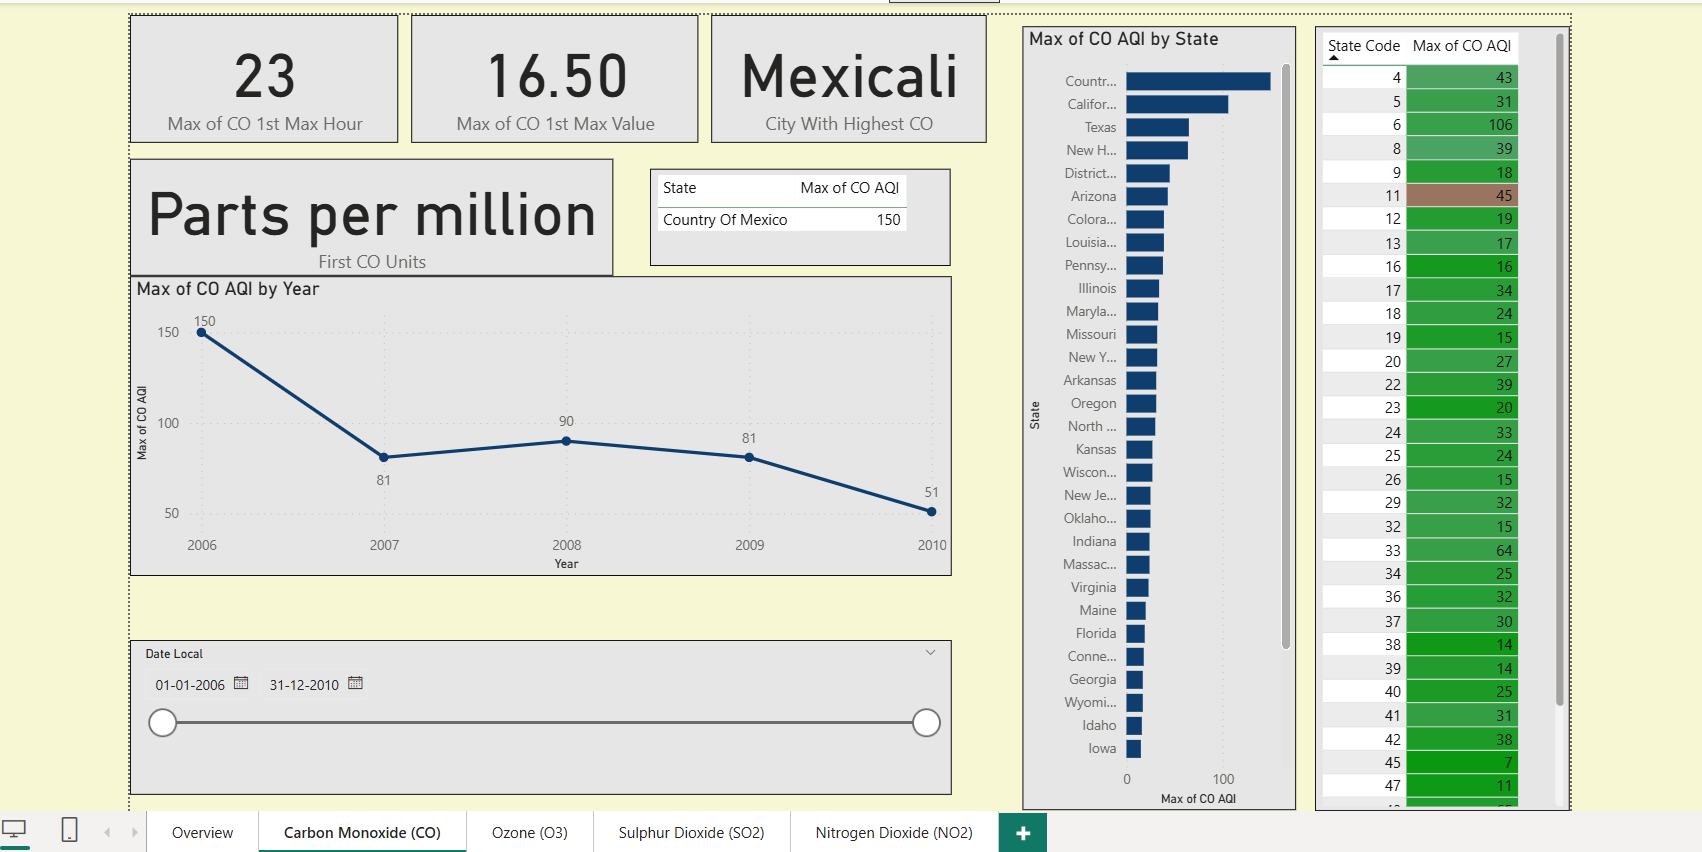

This screenshot's page, from the dashboard's own definition file:
{"tool":"powerbi","page":{"name":"Carbon Monoxide (CO)","canvas":[1280,720],"ordinal":1},"visuals":[{"type":"barChart","fields":{"Category":["US Pollution 2006-2010.State"],"Y":["Max(US Pollution 2006-2010.CO AQI)"]},"box":[793.1,9.6,242.9,697.1],"z":0},{"type":"card","fields":{"Values":["Max(US Pollution 2006-2010.CO 1st Max Hour)"]},"box":[0,0,238.8,113.9],"z":1000},{"type":"card","fields":{"Values":["Max(US Pollution 2006-2010.CO 1st Max Value)"]},"box":[249.7,0,255.2,113.9],"z":2000},{"type":"card","fields":{"Values":["Min(US Pollution 2006-2010.CO Units)"]},"box":[0,127.6,429.5,104.3],"z":3000},{"type":"card","fields":{"Values":["Min(US Pollution 2006-2010.City)"]},"box":[517.1,0,244.5,113.7],"z":5000},{"type":"tableEx","fields":{"Values":["US Pollution 2006-2010.State","Max(US Pollution 2006-2010.CO AQI)"]},"box":[462.4,137.2,267.6,86.4],"z":6000},{"type":"lineChart","fields":{"Y":["Max(US Pollution 2006-2010.CO AQI)"],"Category":["US Pollution 2006-2010.Date Local.Variation.Date Hierarchy.Year"]},"box":[0,231.9,730,266.2],"z":7000},{"type":"slicer","fields":{"Values":["US Pollution 2006-2010.Date Local"]},"box":[0,555.7,730,137.2],"z":8000},{"type":"tableEx","fields":{"Values":["US Pollution 2006-2010.State Code","Max(US Pollution 2006-2010.CO AQI)"]},"box":[1053.7,9.6,226.6,697.5],"z":8001}]}

Visuals, with their boxes in screenshot pixels (x1, y1, x2, y2):
barChart - US Pollution 2006-2010.State x Max(US Pollution 2006-2010.CO AQI): [1016,20,1289,803]
card - Max(US Pollution 2006-2010.CO 1st Max Hour): [124,9,393,137]
card - Max(US Pollution 2006-2010.CO 1st Max Value): [405,9,692,137]
card - Min(US Pollution 2006-2010.CO Units): [124,152,607,270]
card - Min(US Pollution 2006-2010.City): [705,9,980,137]
tableEx - US Pollution 2006-2010.State x Max(US Pollution 2006-2010.CO AQI): [644,163,945,260]
lineChart - Max(US Pollution 2006-2010.CO AQI) x US Pollution 2006-2010.Date Local.Variation.Date Hierarchy.Year: [124,270,945,569]
slicer - US Pollution 2006-2010.Date Local: [124,634,945,788]
tableEx - US Pollution 2006-2010.State Code x Max(US Pollution 2006-2010.CO AQI): [1309,20,1564,804]
